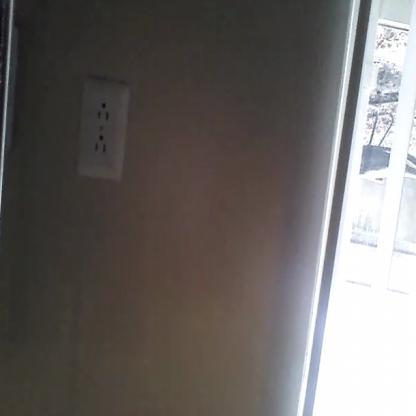OUTLET: (77, 82, 128, 178)
